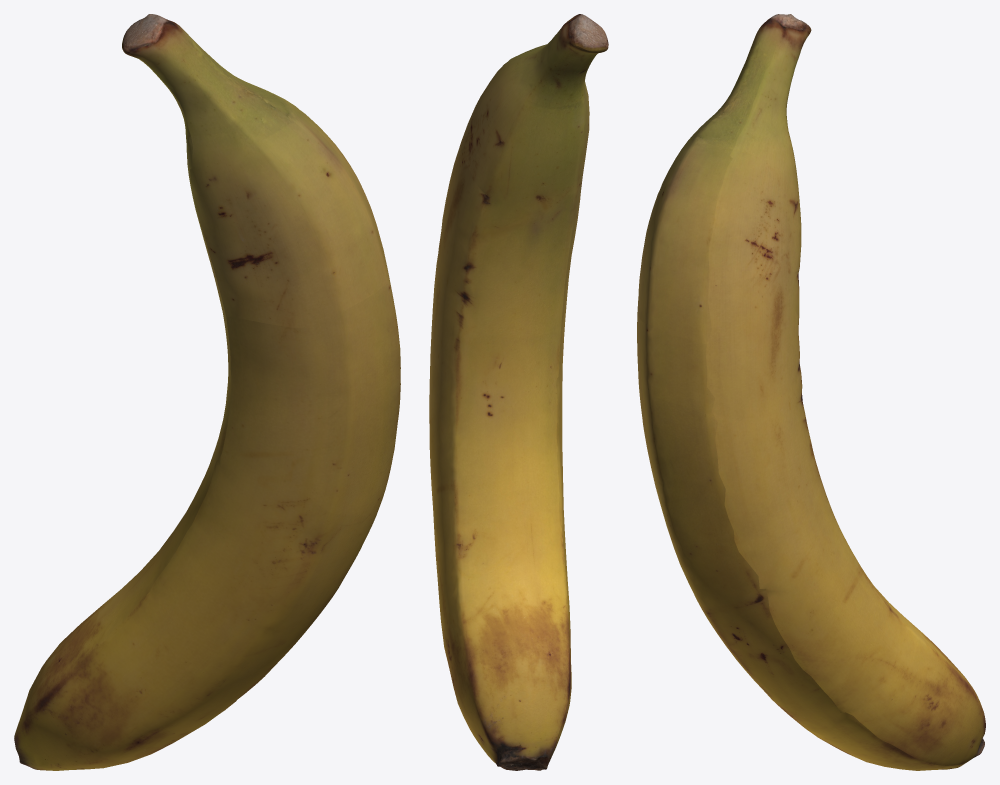
3 renders of one model, left to right at view 1: azimuth 30°, elevation 25°; view 2: azimuth 150°, elevation 25°; view 3: azimuth 270°, elevation 25°, orthographic. The views are drawn at different scales.
Visible parts, largest first — view 1: Aset_food_fruit_S_vfendgyiw_LOD0; view 2: Aset_food_fruit_S_vfendgyiw_LOD0; view 3: Aset_food_fruit_S_vfendgyiw_LOD0.
Boxes of the visible parts, x1,y1,x2,y2 form: Aset_food_fruit_S_vfendgyiw_LOD0: [14, 14, 400, 770]; Aset_food_fruit_S_vfendgyiw_LOD0: [429, 14, 608, 770]; Aset_food_fruit_S_vfendgyiw_LOD0: [637, 14, 985, 770].
Size of the model in its own units: 8.35 by 25.54 by 10.63.
1 material, 1 textured.
